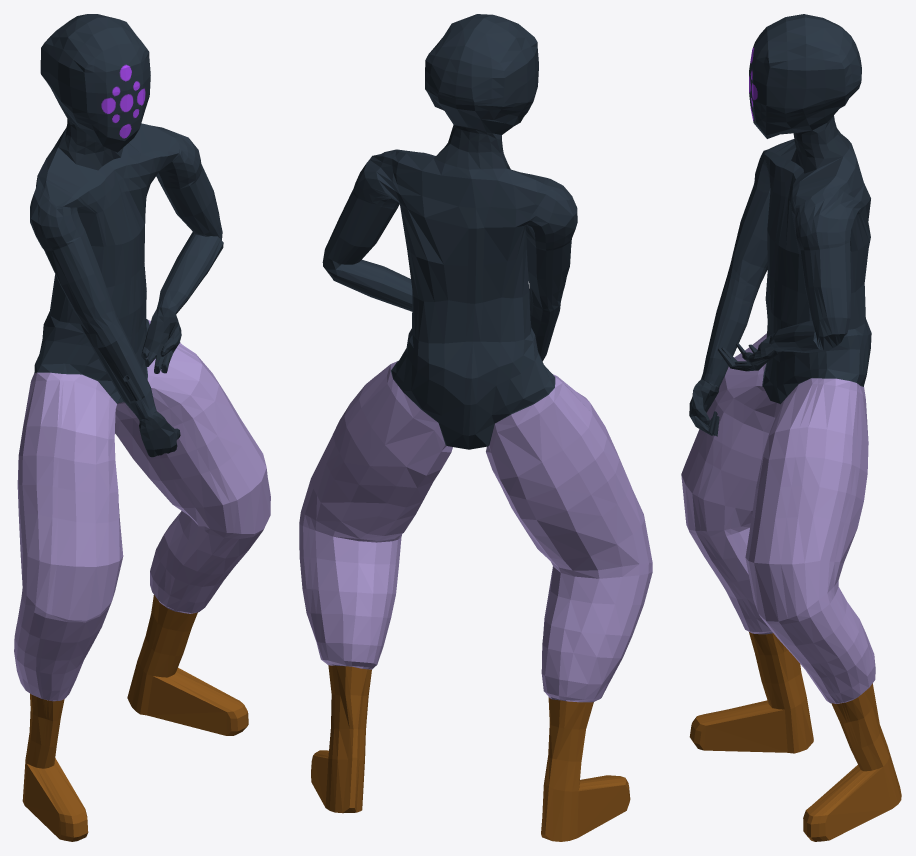
The model's file is Oracle_WL_000012.obj.
3 renders of one model, left to right at view 1: azimuth 30°, elevation 25°; view 2: azimuth 150°, elevation 25°; view 3: azimuth 270°, elevation 25°, orthographic. The views are drawn at different scales.
Visible parts, largest first — view 1: Cube; view 2: Cube; view 3: Cube.
Boxes of the visible parts, <box> form: Cube: <box>14,14,270,841</box>; Cube: <box>299,14,652,841</box>; Cube: <box>681,14,901,841</box>.
Bounding box in the file's own units: 1.47 × 3.78 × 0.9887.
